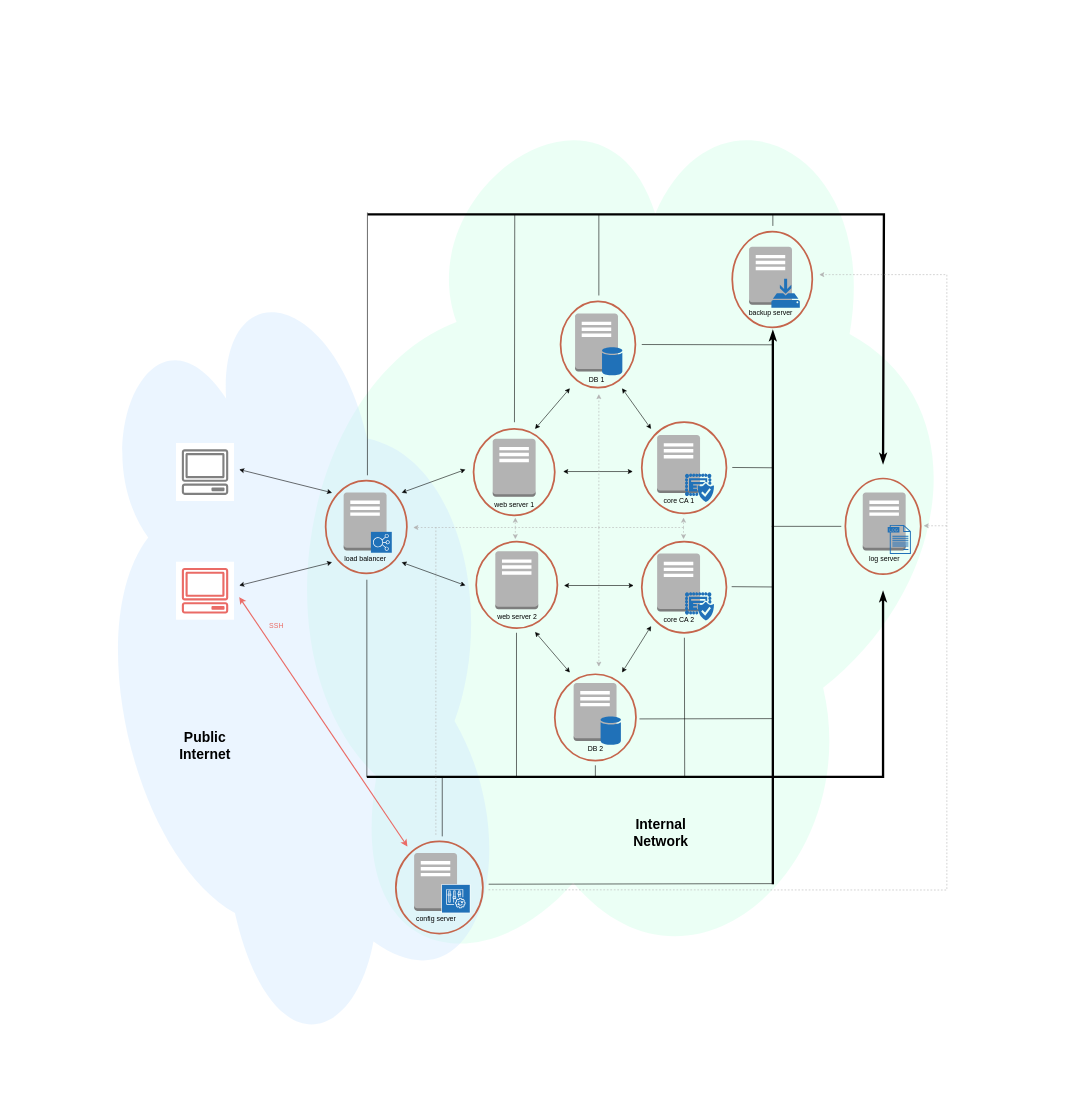
Image size: 1075x1096. Some labels were removed from this diagram. The box of each missing label's shape, as (x1, y1, x2, y2) in pixels:
admin: (175, 561, 234, 620)
client: (175, 443, 234, 501)
